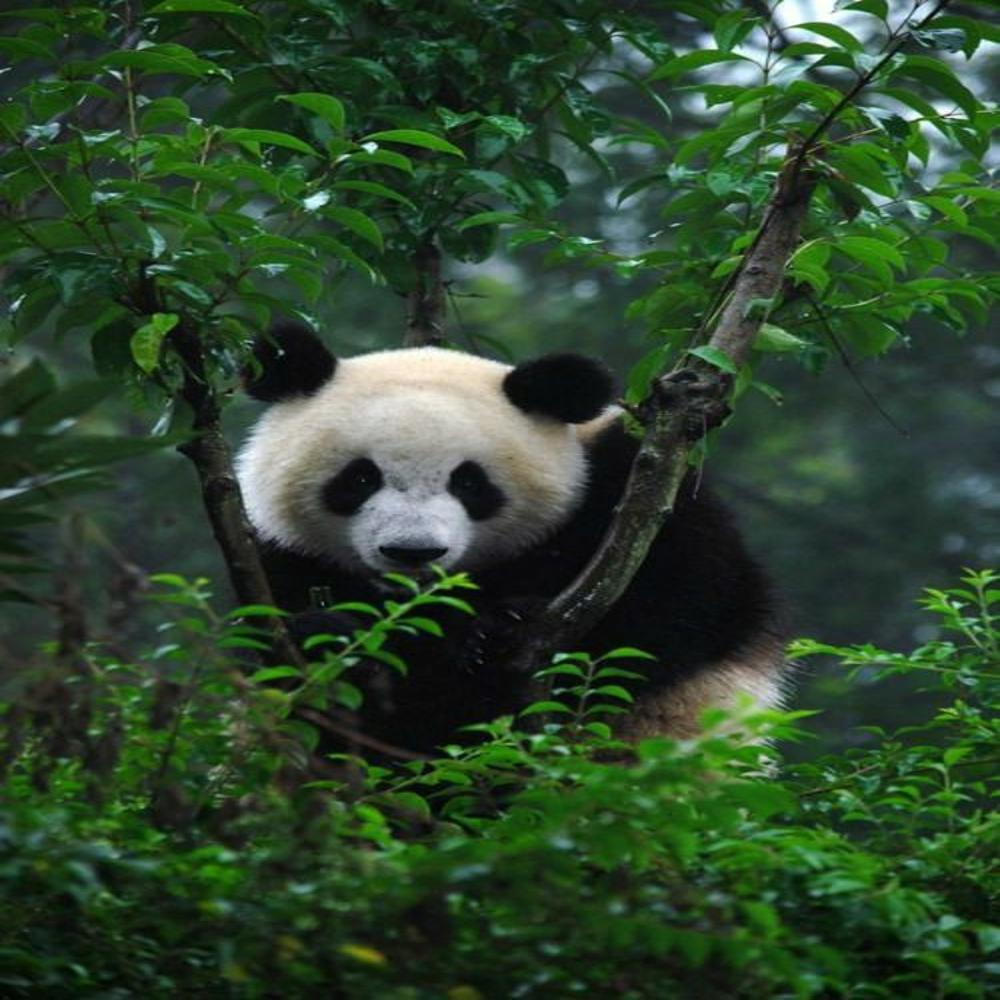panda: (222, 314, 816, 764)
